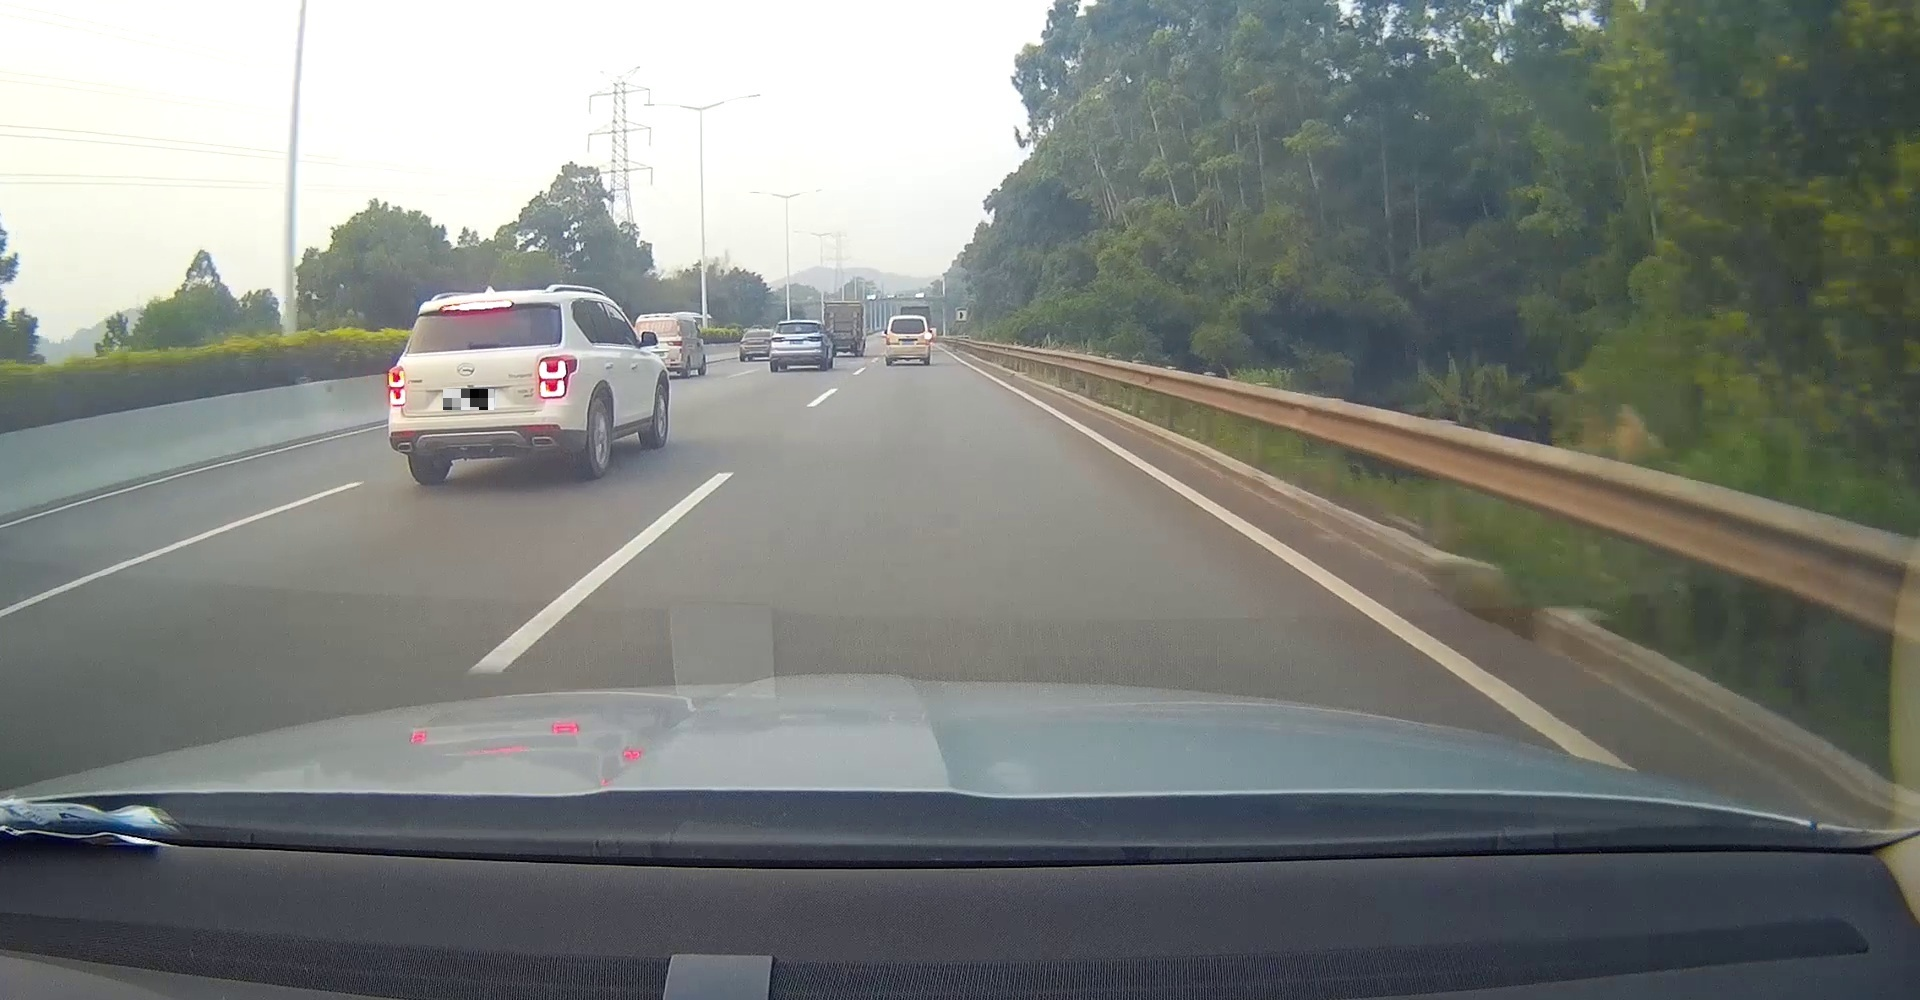L_light: (387, 365, 406, 407)
R_light: (537, 354, 577, 398)
T_light: (438, 299, 513, 311)
day-brake: (387, 291, 585, 484)
plate_1: (443, 390, 494, 410)
